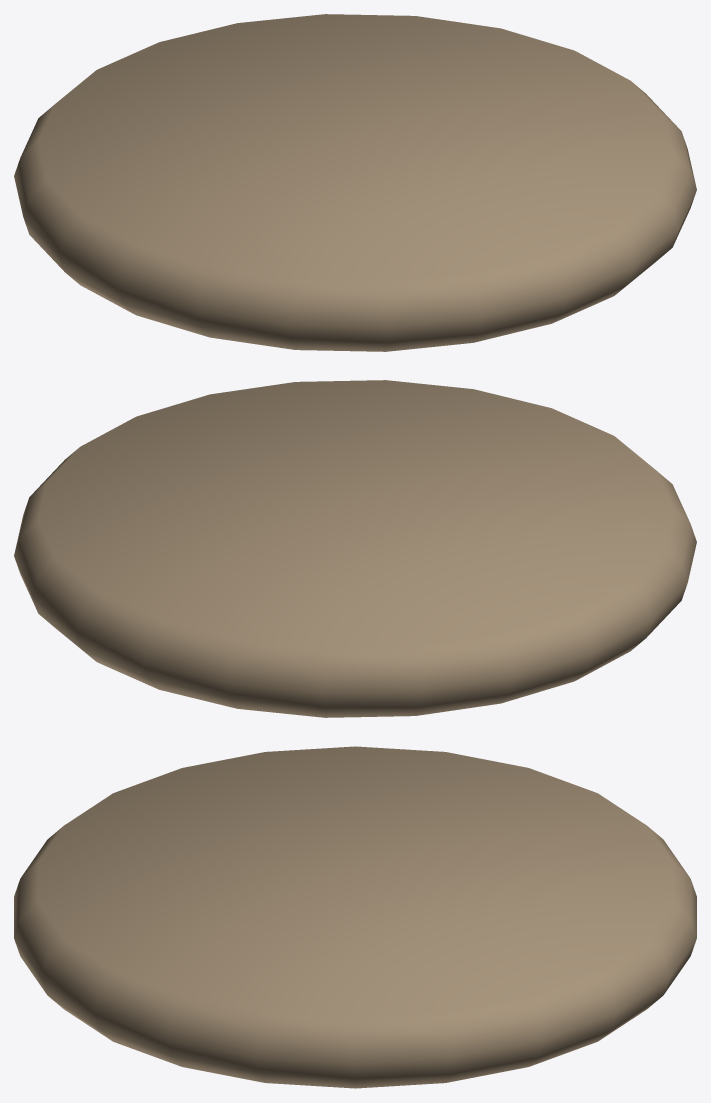
The model's file is SM_ventilation_props_26.glb.
3 renders of one model, top to bottom at view 1: azimuth 30°, elevation 25°; view 2: azimuth 150°, elevation 25°; view 3: azimuth 270°, elevation 25°, orthographic.
Visible parts, largest first — view 1: SM_ventilation_props_26; view 2: SM_ventilation_props_26; view 3: SM_ventilation_props_26.
Part boxes in pixels (box(x1,y1,x2,y2)): SM_ventilation_props_26: box(14, 14, 696, 351); SM_ventilation_props_26: box(14, 380, 696, 717); SM_ventilation_props_26: box(14, 746, 696, 1088).
Bounding box in the file's own units: 0.8795 × 0.1 × 0.8706.
